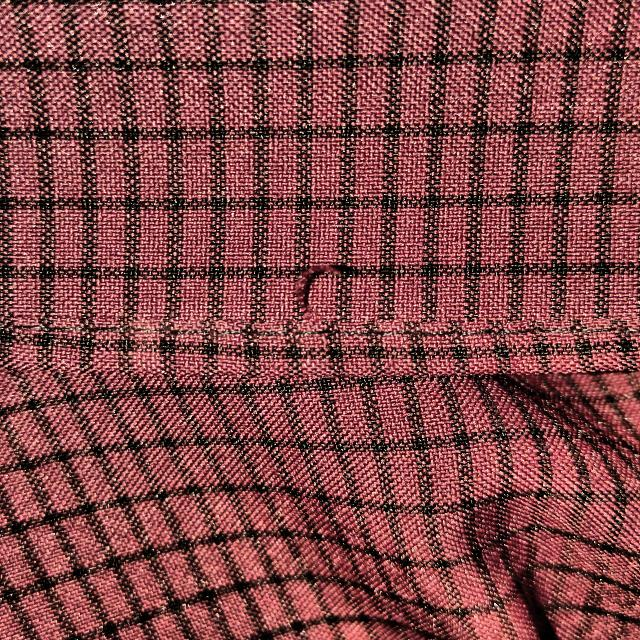Stitch: (264, 251, 398, 361)
